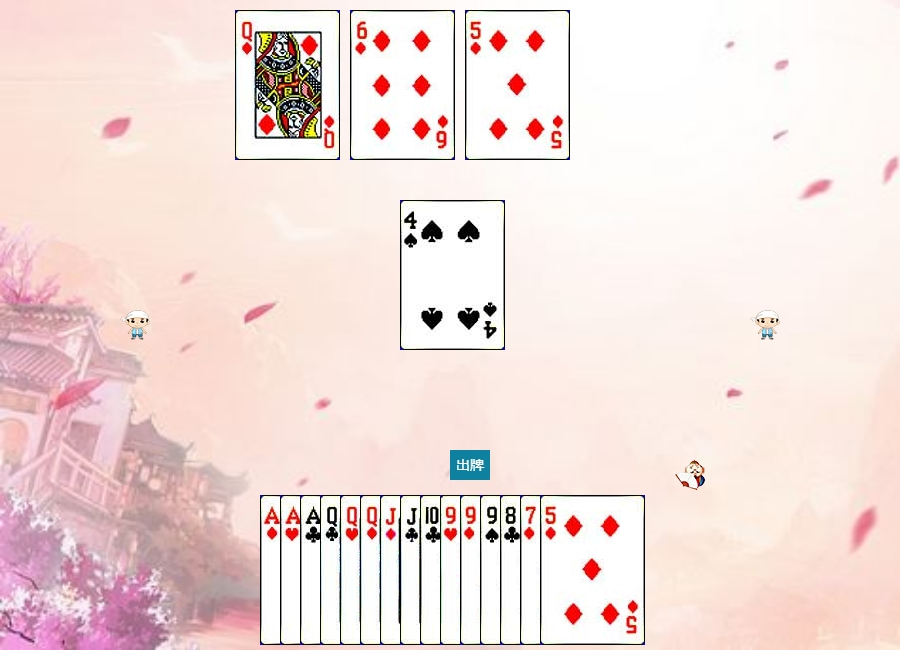10~2: (420, 495, 525, 645)
11~1: (380, 495, 485, 645)
11~2: (400, 495, 505, 645)
12~1: (235, 10, 340, 160), (360, 495, 465, 645)
12~2: (320, 495, 425, 645)
12~3: (340, 495, 445, 645)
14~1: (260, 495, 365, 645)
14~2: (300, 495, 405, 645)
14~3: (280, 495, 385, 645)
4~4: (400, 200, 505, 350)
5~1: (465, 10, 570, 160), (540, 495, 645, 645)
6~1: (350, 10, 455, 160)
7~1: (520, 495, 625, 645)
8~2: (500, 495, 605, 645)
9~1: (460, 495, 565, 645)
9~3: (440, 495, 545, 645)
9~4: (480, 495, 585, 645)
